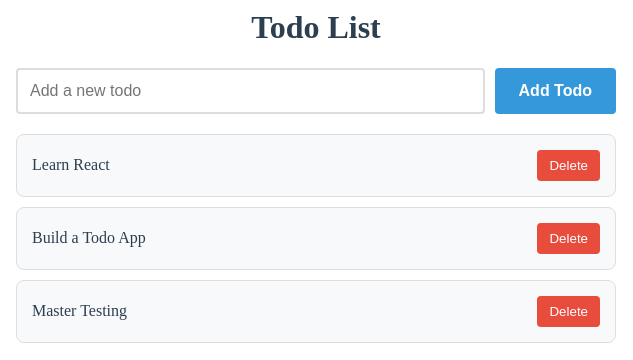
it: TodoList Component › displays empty state
Step 1. Click the button with test id "delete-btn-" → x=569, y=165, box [538,150,600,181]
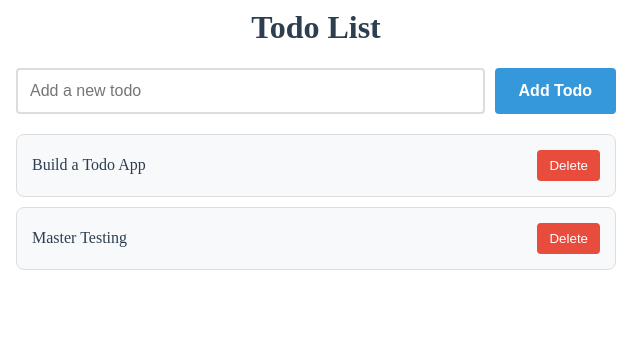
Step 2. Click the button with test id "delete-btn-" → x=569, y=165, box [538,150,600,181]
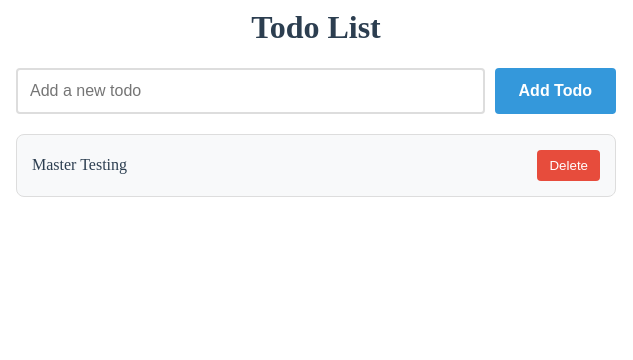
Step 3. Click the button with test id "delete-btn-" → x=569, y=165, box [538,150,600,181]
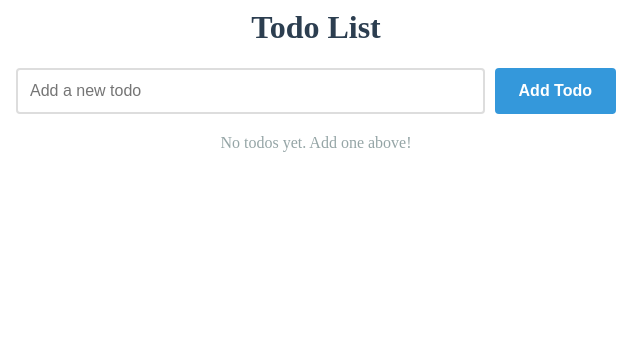
Result: the text "No todos yet. Add one above!" is shown at [220,134,412,151]
